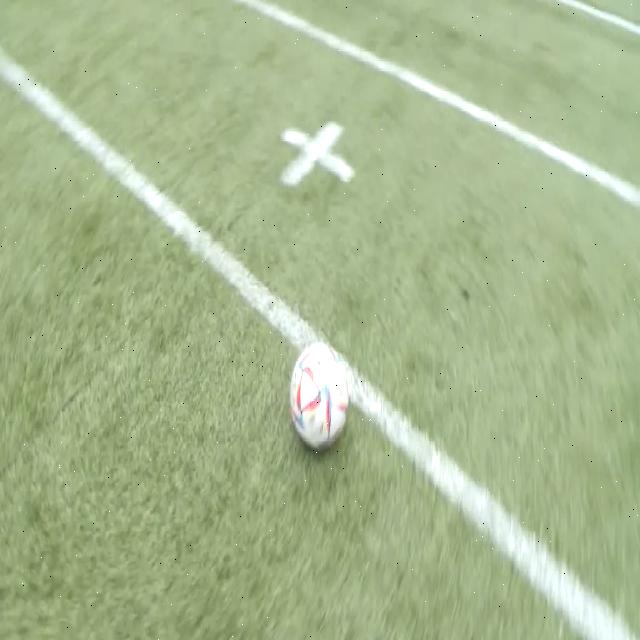ball: (290, 344, 348, 451)
